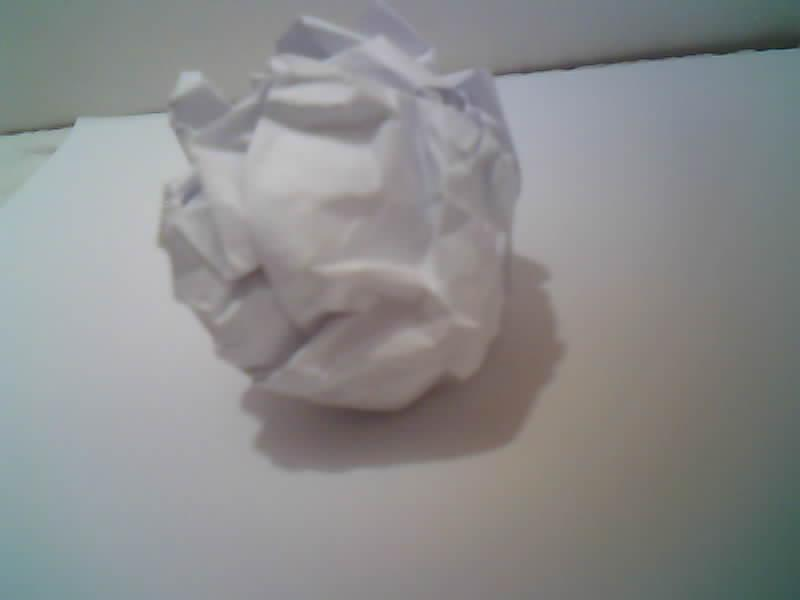biodegradable: (159, 4, 519, 410)
